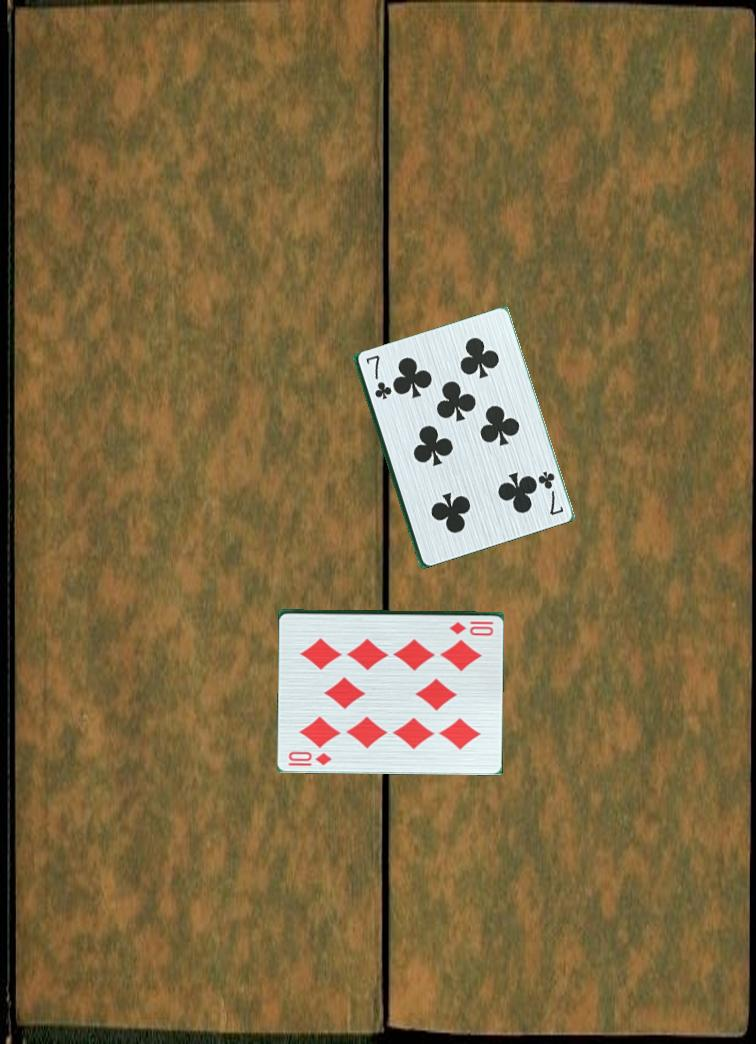7c: (533, 467, 567, 518), (363, 352, 392, 403)
td: (441, 618, 496, 637), (285, 748, 334, 769)
